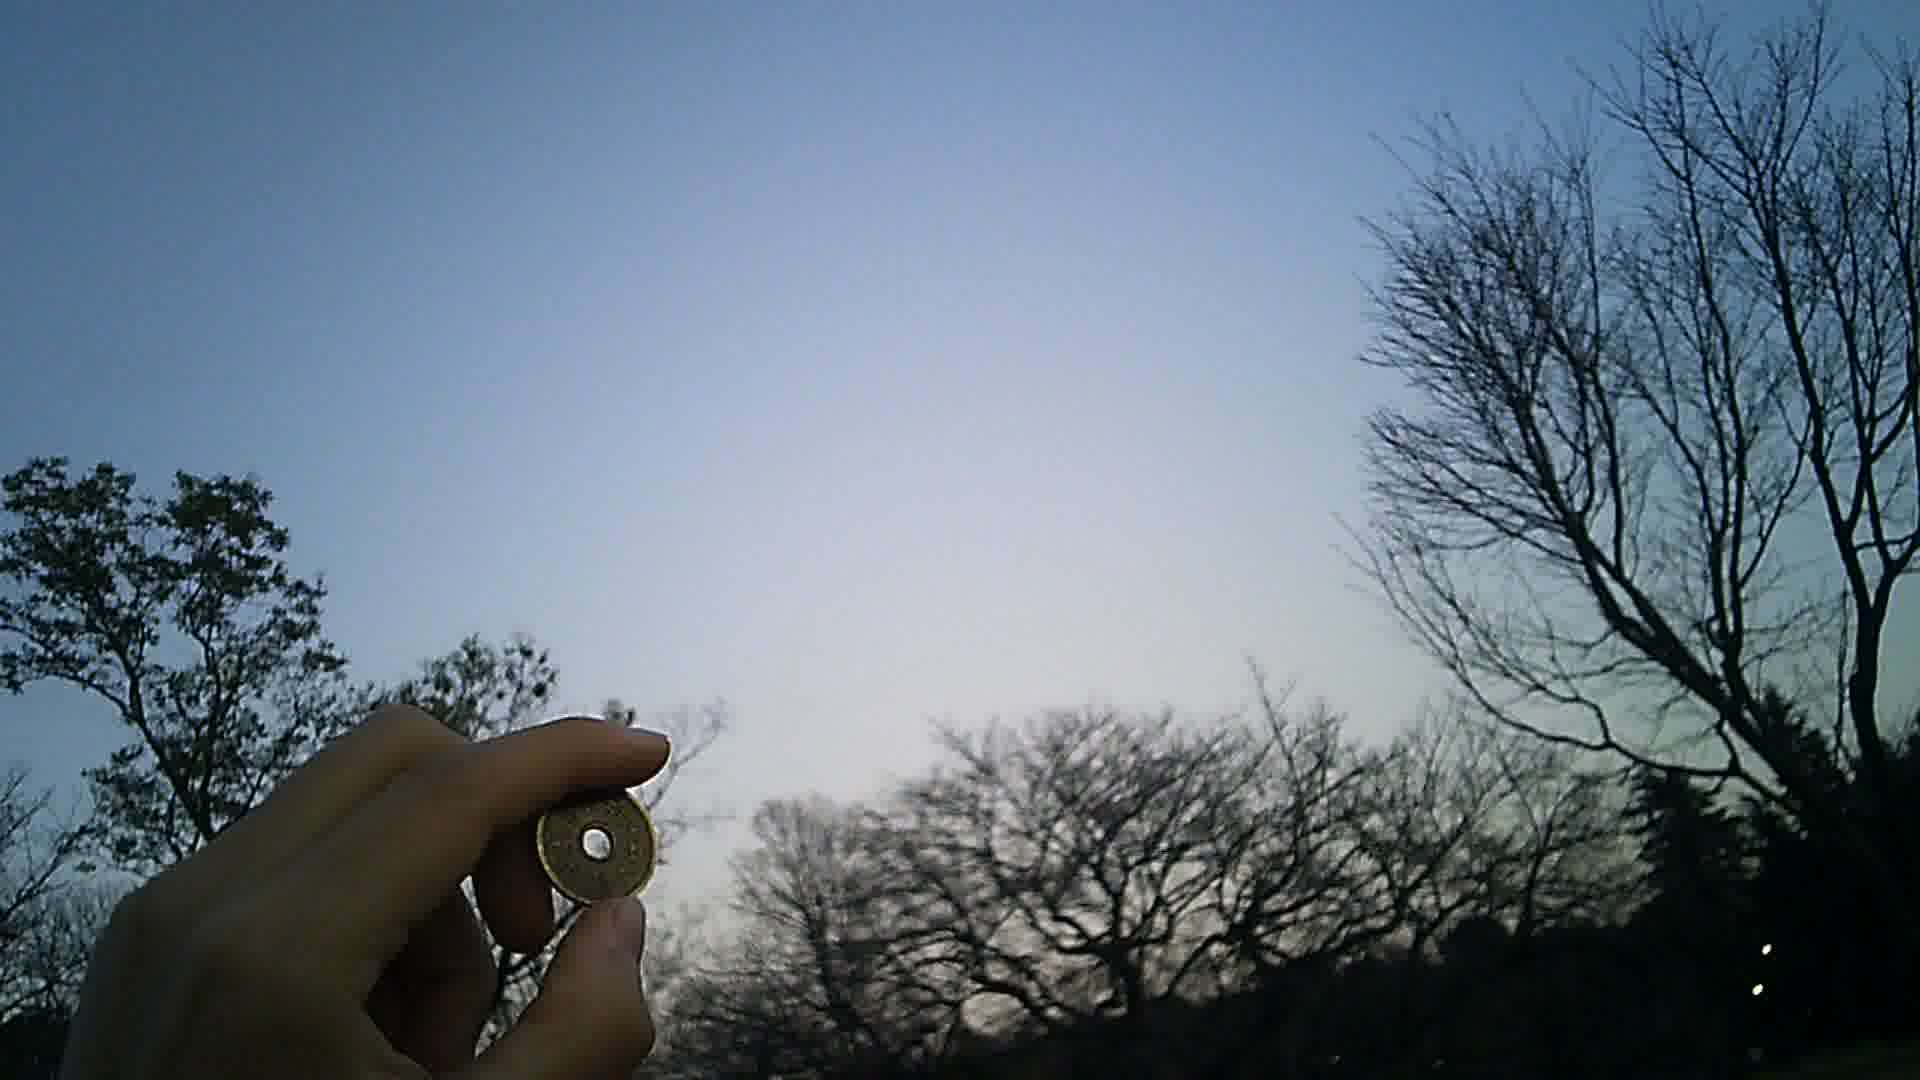5 Yen: (539, 774, 665, 910)
